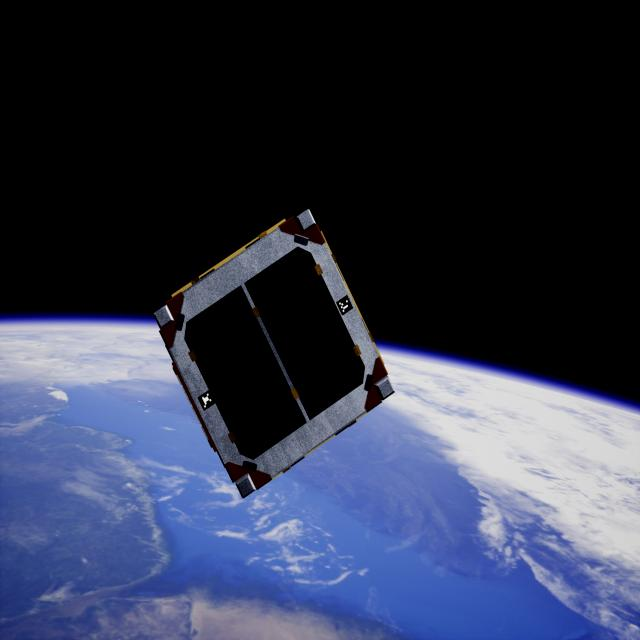satellite: (148, 189, 344, 505)
